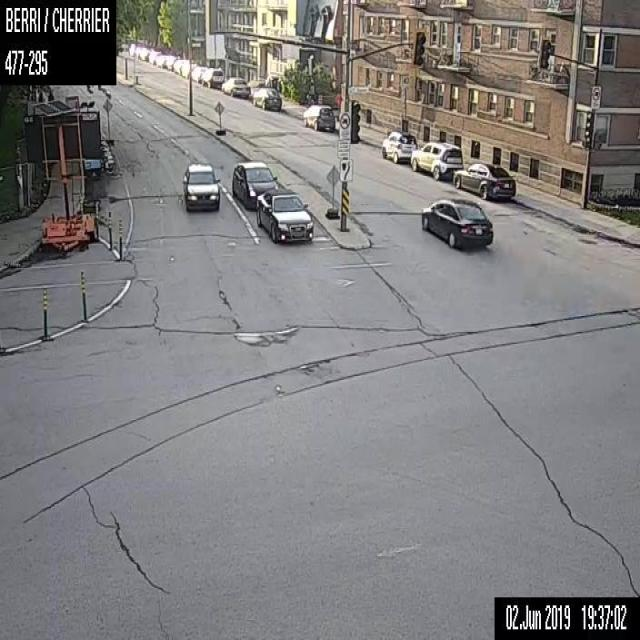construction: (23, 96, 102, 253), (326, 164, 338, 217), (102, 97, 113, 143), (213, 100, 225, 135), (79, 271, 86, 320), (118, 214, 123, 258), (43, 286, 47, 338), (107, 210, 112, 250)
vehicle: (420, 197, 493, 249), (256, 189, 313, 243), (231, 160, 278, 210), (452, 162, 516, 198), (410, 140, 462, 180), (182, 162, 220, 212), (381, 130, 416, 162), (302, 104, 334, 130), (253, 87, 281, 109), (221, 76, 250, 97), (201, 67, 223, 88), (190, 65, 207, 82), (148, 51, 160, 64), (180, 61, 191, 75), (165, 56, 176, 70), (156, 55, 168, 67), (173, 59, 182, 73)
